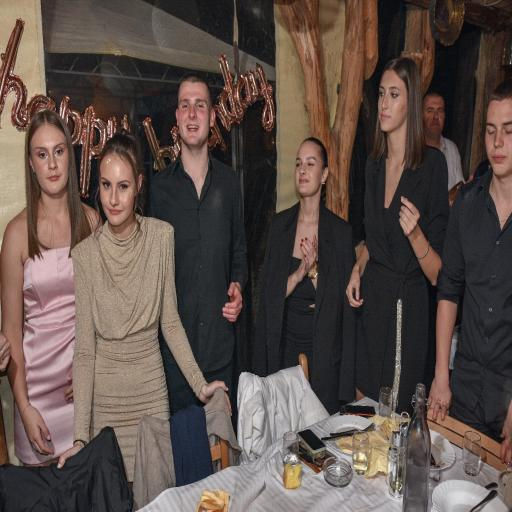marija: (295, 143, 327, 197)
